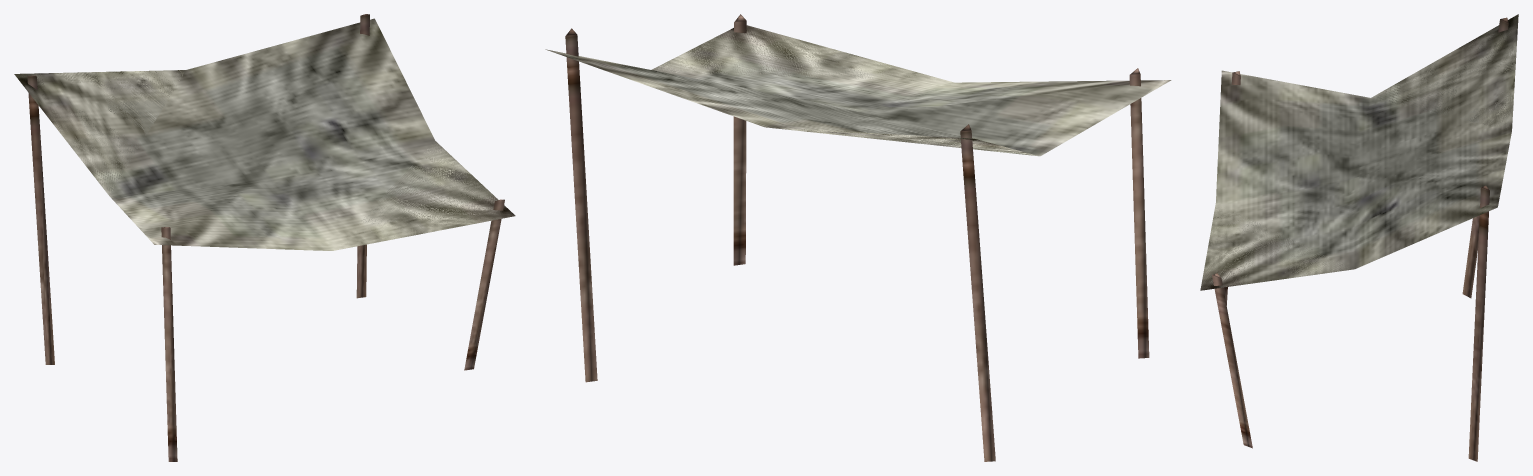
Rendered from peng13.obj.
3 views of the same model, side by side, from view 1: azimuth 30°, elevation 25°; view 2: azimuth 150°, elevation 25°; view 3: azimuth 270°, elevation 25° (orthographic). The views are drawn at different scales.
Visible parts, largest first — view 1: peng13; view 2: peng13; view 3: peng13.
Boxes of the visible parts, x1,y1,x2,y2 form: peng13: [14, 14, 515, 461]; peng13: [545, 14, 1171, 461]; peng13: [1200, 14, 1518, 461].
Bounding box in the file's own units: 122 × 93.92 × 93.64.
